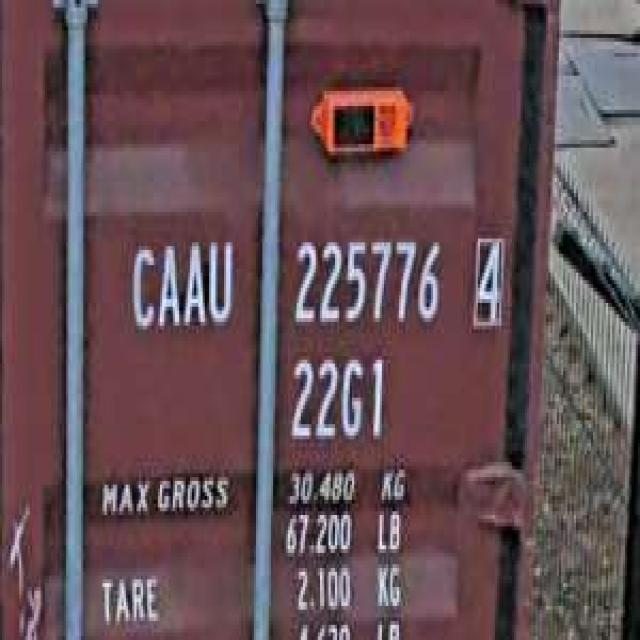dv: (465, 224, 508, 334)
owner: (124, 223, 237, 341)
serial: (286, 224, 446, 334)
size: (284, 344, 390, 446)
